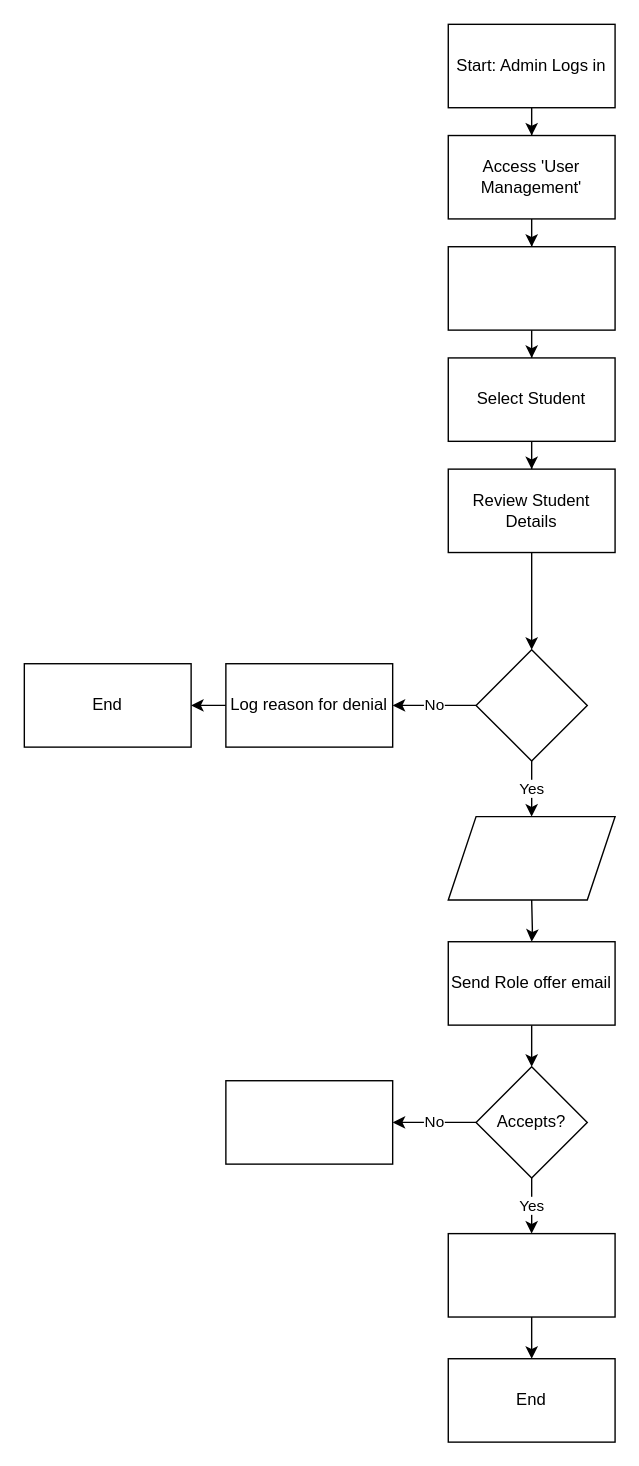
Some shapes in this 639 by 1466 pixel diagram are drawn without their labels. Each missing label, with the centre of its shape:
"Apply Tutor role" goes at point 531,1274.
"Define Subject experise" goes at point 531,857.
"Log decline and notify Admin" goes at point 308,1121.
"Qualifies?" goes at point 531,704.
"Search/Filter Student" goes at point 531,287.
